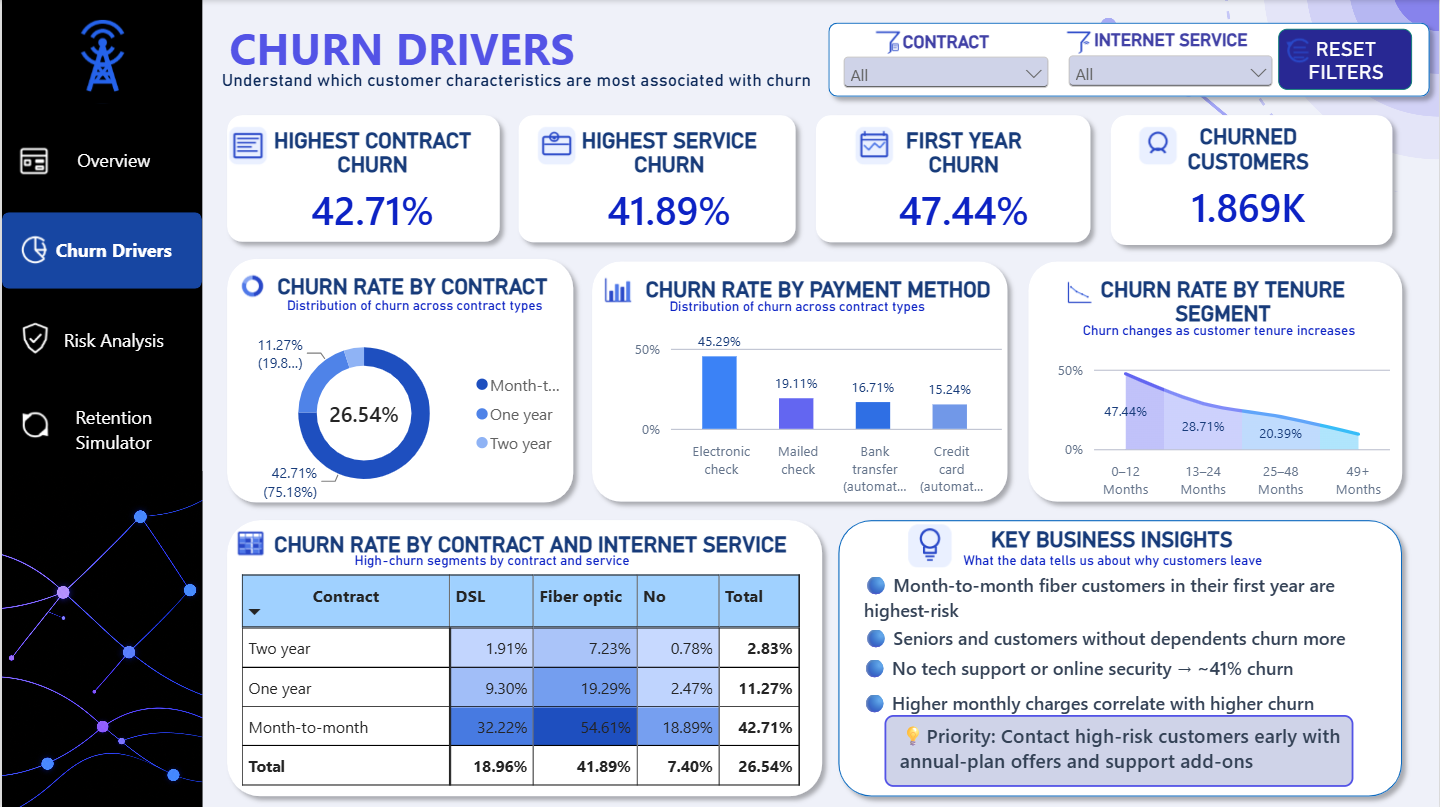

What the dashboard file says about the page in this screenshot:
{"tool":"powerbi","page":{"name":"Churn Drivers","canvas":[1280,720],"ordinal":1},"visuals":[{"type":"image","box":[947,0,333,170.1],"z":0},{"type":"shape","box":[0,0,178.6,720.2],"z":1000},{"type":"textbox","title":"CHURN DRIVERS","box":[202.3,16.5,381.6,52.8],"z":2000},{"type":"textbox","title":"Understand which customer characteristics are most associated with churn","box":[196,62,540.5,25.3],"z":3000},{"type":"shape","box":[191.7,93.3,260.8,130.8],"z":4000},{"type":"shape","box":[735.9,453.6,520,264.2],"z":5000},{"type":"textbox","title":"KEY BUSINESS INSIGHTS","box":[869.8,470,237.7,25.3],"z":6000},{"type":"textbox","title":"What the data tells us about why customers leave","box":[828.8,492.2,319.7,25.3],"z":7000},{"type":"textbox","title":"🔵 Month-to-month fiber customers in their first year are highest-risk","box":[761.1,510,453,48],"z":8000},{"type":"cardVisual","title":"HIGHEST CONTRACT CHURN","fields":{"Data":["_Measures.Month-to-Month Churn Rate"]},"box":[236.5,102.5,188.2,118.2],"z":9000},{"type":"shape","box":[451.2,93.8,265,131.2],"z":10000},{"type":"shape","box":[978.8,93.8,268.8,133.8],"z":11000},{"type":"shape","box":[716.2,93.8,262.5,131.2],"z":12000},{"type":"cardVisual","title":"HIGHEST SERVICE CHURN","fields":{"Data":["_Measures.Fiber Optic Churn Rate"]},"box":[494.6,102.5,200.3,118.2],"z":13000},{"type":"cardVisual","title":"FIRST YEAR CHURN","fields":{"Data":["_Measures.First-Year Churn Rate"]},"box":[776.9,102.5,159.3,118.2],"z":14000},{"type":"cardVisual","title":"CHURNED CUSTOMERS","fields":{"Data":["_Measures.Churned Customers"]},"box":[1015,98.8,189.4,118.2],"z":15000},{"type":"shape","box":[726.5,11,553.5,84],"z":16000},{"type":"slicer","title":"CONTRACT","fields":{"Values":["Telco_Churn.Contract"]},"box":[745,20,191.8,67.6],"z":17000},{"type":"slicer","title":"INTERNET SERVICE","fields":{"Values":["Telco_Churn.InternetService"]},"box":[945,19.2,191.7,67.5],"z":18000},{"type":"shape","box":[191.2,221.2,326.2,235],"z":19000},{"type":"donutChart","title":"CHURN RATE BY CONTRACT","fields":{"Category":["Telco_Churn.Contract"],"Y":["_Measures.Churn Rate"]},"box":[203.5,232.6,303.5,220.9],"z":20000},{"type":"textbox","title":"Distribution of churn across contract types","box":[228.8,265,278.7,25.3],"z":21000},{"type":"shape","box":[517,224,388,232],"z":22000},{"type":"clusteredColumnChart","title":"CHURN RATE BY PAYMENT METHOD","fields":{"Category":["Telco_Churn.PaymentMethod"],"Y":["_Measures.Churn Rate"]},"box":[543,235,347,209],"z":23000},{"type":"shape","box":[905,224,351,232],"z":24000},{"type":"textbox","title":"Distribution of churn across contract types","box":[569,266,278.7,25.3],"z":25000},{"type":"stackedAreaChart","title":"CHURN RATE BY TENURE SEGMENT","fields":{"Category":["Telco_Churn.TenureSegment"],"Y":["_Measures.Churn Rate"]},"box":[914.5,235.3,324.5,211.1],"z":26000},{"type":"textbox","title":"Churn changes as customer tenure increases","box":[953,287,261.8,25.3],"z":27000},{"type":"shape","box":[191,454,548,264],"z":28000},{"type":"pivotTable","title":"CHURN RATE BY CONTRACT AND INTERNET SERVICE","fields":{"Columns":["Telco_Churn.InternetService"],"Rows":["Telco_Churn.Contract"],"Values":["_Measures.Churn Rate"]},"box":[212.3,462.1,515.2,247.3],"z":29000},{"type":"textbox","title":"High-churn segments by contract and service","box":[289.5,492.2,294,25],"z":30000},{"type":"textbox","title":"🔵 Seniors and customers without dependents churn more","box":[761.1,556.7,446.7,26.7],"z":31000},{"type":"textbox","title":"🔵 No tech support or online security → ~41% churn","box":[760,583.3,436.7,28.9],"z":32000},{"type":"textbox","title":"🔵 Higher monthly charges correlate with higher churn","box":[760,614.4,436.7,28.9],"z":33000},{"type":"actionButton","title":"RESET FILTERS","box":[1136.7,26,119.2,54.2],"z":34000},{"type":"actionButton","box":[196.2,102.5,46.2,55],"z":35000},{"type":"actionButton","box":[471.2,102.5,46.2,55],"z":36000},{"type":"actionButton","box":[753.8,102.5,46.2,55],"z":37000},{"type":"actionButton","box":[1006.2,102.5,46.2,55],"z":38000},{"type":"actionButton","box":[203.8,228.8,38.8,42.5],"z":39000},{"type":"actionButton","box":[529,232,40,42],"z":40000},{"type":"actionButton","box":[942.2,234,36.2,40.4],"z":41000},{"type":"actionButton","box":[201.4,457.1,39.8,42.2],"z":42000},{"type":"actionButton","box":[799.9,459.7,51.9,45.8],"z":43000},{"type":"actionButton","box":[770,13.3,36.7,34.2],"z":44000},{"type":"actionButton","box":[941,13.3,36,34.2],"z":45000},{"type":"actionButton","box":[1134,19.3,42.2,41],"z":46000},{"type":"textbox","title":"💡Priority: Contact high-risk customers early with annual-plan offers and support add-ons","box":[786.3,637,417.9,63.8],"z":47000},{"type":"pageNavigator","box":[0,108.6,178.6,311],"z":48000},{"type":"actionButton","box":[14.5,6,149.6,98.9],"z":49000},{"type":"image","box":[0,419.6,178.6,300.4],"z":50000},{"type":"actionButton","box":[6,117,45.8,53.1],"z":51000},{"type":"actionButton","box":[6.2,195.4,45.8,53.1],"z":52000},{"type":"actionButton","box":[6.2,275.4,45.8,53.1],"z":53000},{"type":"actionButton","box":[6.2,352.3,45.8,53.1],"z":54000}]}

Visuals, with their boxes on the page's 1280x720 design canvas (x1, y1, x2, y2). These are canvas units, not pixel positions in the 1440x807 screenshot, which may show the page scaled, cropped or inside an application window:
image: [947,0,1280,170]
shape: [0,0,179,720]
"CHURN DRIVERS" textbox: [202,16,584,69]
"Understand which customer characteristics are most associated with churn" textbox: [196,62,736,87]
shape: [192,93,452,224]
shape: [736,454,1256,718]
"KEY BUSINESS INSIGHTS" textbox: [870,470,1108,495]
"What the data tells us about why customers leave" textbox: [829,492,1148,518]
"🔵 Month-to-month fiber customers in their first year are highest-risk" textbox: [761,510,1214,558]
"HIGHEST CONTRACT CHURN" cardVisual: [236,102,425,221]
shape: [451,94,716,225]
shape: [979,94,1248,228]
shape: [716,94,979,225]
"HIGHEST SERVICE CHURN" cardVisual: [495,102,695,221]
"FIRST YEAR CHURN" cardVisual: [777,102,936,221]
"CHURNED CUSTOMERS" cardVisual: [1015,99,1204,217]
shape: [726,11,1280,95]
"CONTRACT" slicer: [745,20,937,88]
"INTERNET SERVICE" slicer: [945,19,1137,87]
shape: [191,221,517,456]
"CHURN RATE BY CONTRACT" donutChart: [204,233,507,454]
"Distribution of churn across contract types" textbox: [229,265,508,290]
shape: [517,224,905,456]
"CHURN RATE BY PAYMENT METHOD" clusteredColumnChart: [543,235,890,444]
shape: [905,224,1256,456]
"Distribution of churn across contract types" textbox: [569,266,848,291]
"CHURN RATE BY TENURE SEGMENT" stackedAreaChart: [914,235,1239,446]
"Churn changes as customer tenure increases" textbox: [953,287,1215,312]
shape: [191,454,739,718]
"CHURN RATE BY CONTRACT AND INTERNET SERVICE" pivotTable: [212,462,728,709]
"High-churn segments by contract and service" textbox: [290,492,584,517]
"🔵 Seniors and customers without dependents churn more" textbox: [761,557,1208,583]
"🔵 No tech support or online security → ~41% churn" textbox: [760,583,1197,612]
"🔵 Higher monthly charges correlate with higher churn" textbox: [760,614,1197,643]
"RESET FILTERS" actionButton: [1137,26,1256,80]
actionButton: [196,102,242,158]
actionButton: [471,102,517,158]
actionButton: [754,102,800,158]
actionButton: [1006,102,1052,158]
actionButton: [204,229,243,271]
actionButton: [529,232,569,274]
actionButton: [942,234,978,274]
actionButton: [201,457,241,499]
actionButton: [800,460,852,506]
actionButton: [770,13,807,48]
actionButton: [941,13,977,48]
actionButton: [1134,19,1176,60]
"💡Priority: Contact high-risk customers early with annual-plan offers and support add-ons" textbox: [786,637,1204,701]
pageNavigator: [0,109,179,420]
actionButton: [14,6,164,105]
image: [0,420,179,720]
actionButton: [6,117,52,170]
actionButton: [6,195,52,248]
actionButton: [6,275,52,328]
actionButton: [6,352,52,405]
